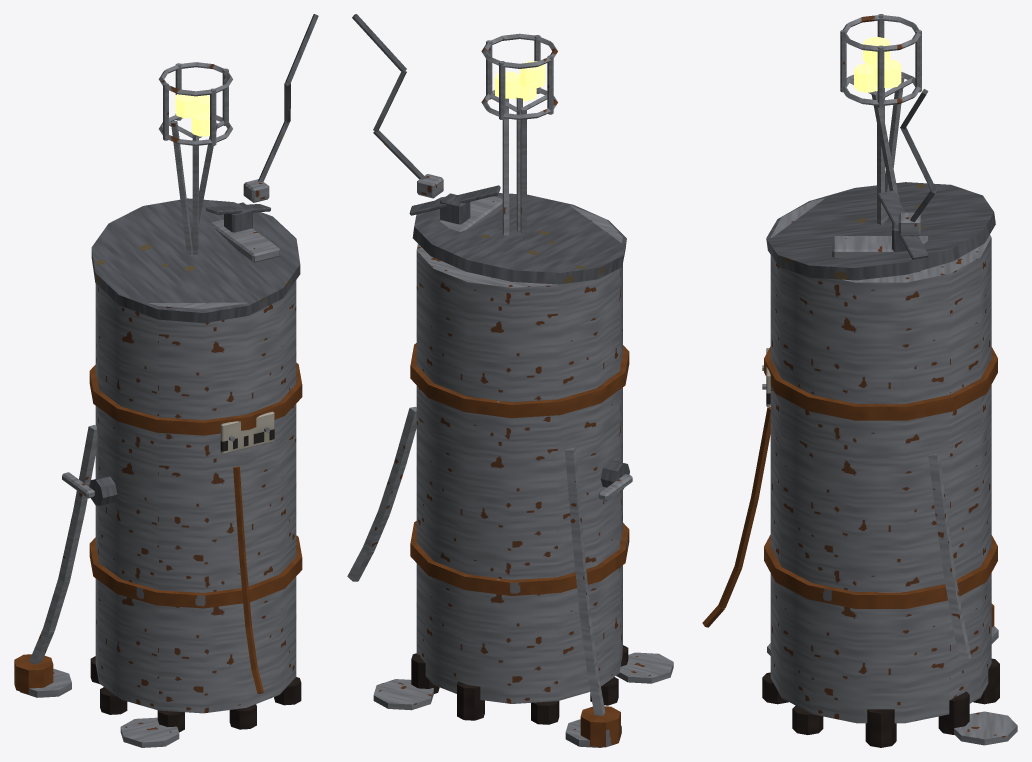
Rendered from place_whistle.glb.
3 renders of one model, left to right at view 1: azimuth 30°, elevation 25°; view 2: azimuth 150°, elevation 25°; view 3: azimuth 270°, elevation 25°, orthographic. The views are drawn at different scales.
Parts seen in each view (by area): view 1: whistle_drum, whistle_lid_warped, whistle_strap_0, whistle_strap_1, whistle_plaque, whistle_tack_plate_1, whistle_lid_clamp, whistle_boot, whistle_chain_1_1, whistle_rebar_2, whistle_chain_1_2, whistle_basket_ring (+11 smaller); view 2: whistle_drum, whistle_lid_warped, whistle_strap_1, whistle_strap_0, whistle_tack_plate_0, whistle_boot, whistle_tack_plate_1, whistle_chain_1_1, whistle_fillet_2, whistle_chain_1_2, whistle_lid_clamp, whistle_rebar_1 (+13 smaller); view 3: whistle_drum, whistle_lid_warped, whistle_strap_1, whistle_strap_0, whistle_tack_plate_0, whistle_lid_clamp, whistle_fillet_0, whistle_basket_ring, whistle_paddle_root, whistle_fillet_1, whistle_chain_0_1, whistle_rebar_1 (+11 smaller).
Boxes of the visible parts, x1,y1,x2,y2 form: whistle_drum: [95, 280, 296, 713]; whistle_lid_warped: [91, 198, 300, 323]; whistle_strap_0: [89, 535, 302, 608]; whistle_strap_1: [89, 362, 302, 435]; whistle_plaque: [220, 411, 274, 453]; whistle_tack_plate_1: [120, 717, 179, 747]; whistle_lid_clamp: [211, 220, 280, 262]; whistle_boot: [14, 654, 53, 694]; whistle_chain_1_1: [73, 425, 96, 512]; whistle_rebar_2: [171, 121, 192, 254]; whistle_chain_1_2: [58, 509, 85, 581]; whistle_basket_ring: [158, 62, 232, 96]; whistle_drum: [416, 205, 622, 703]; whistle_lid_warped: [412, 193, 626, 284]; whistle_strap_1: [410, 343, 629, 418]; whistle_strap_0: [410, 521, 629, 595]; whistle_tack_plate_0: [373, 679, 433, 710]; whistle_boot: [580, 706, 620, 747]; whistle_tack_plate_1: [616, 652, 673, 683]; whistle_chain_1_1: [565, 447, 583, 541]; whistle_fillet_2: [457, 681, 484, 720]; whistle_chain_1_2: [572, 539, 590, 618]; whistle_lid_clamp: [439, 196, 502, 231]; whistle_rebar_1: [502, 98, 509, 235]; whistle_drum: [770, 198, 991, 723]; whistle_lid_warped: [766, 182, 995, 280]; whistle_strap_1: [764, 346, 997, 420]; whistle_strap_0: [764, 535, 997, 608]; whistle_tack_plate_0: [954, 711, 1017, 745]; whistle_lid_clamp: [832, 236, 927, 258]; whistle_fillet_0: [865, 709, 896, 747]; whistle_basket_ring: [841, 15, 920, 51]; whistle_paddle_root: [877, 190, 928, 259]; whistle_fillet_1: [938, 691, 969, 734]; whistle_chain_0_1: [928, 453, 947, 520]; whistle_rebar_1: [871, 91, 899, 200].
Bounding box in the file's own units: 5.43 × 11.6 × 4.85.
6 materials, 6 textured.
